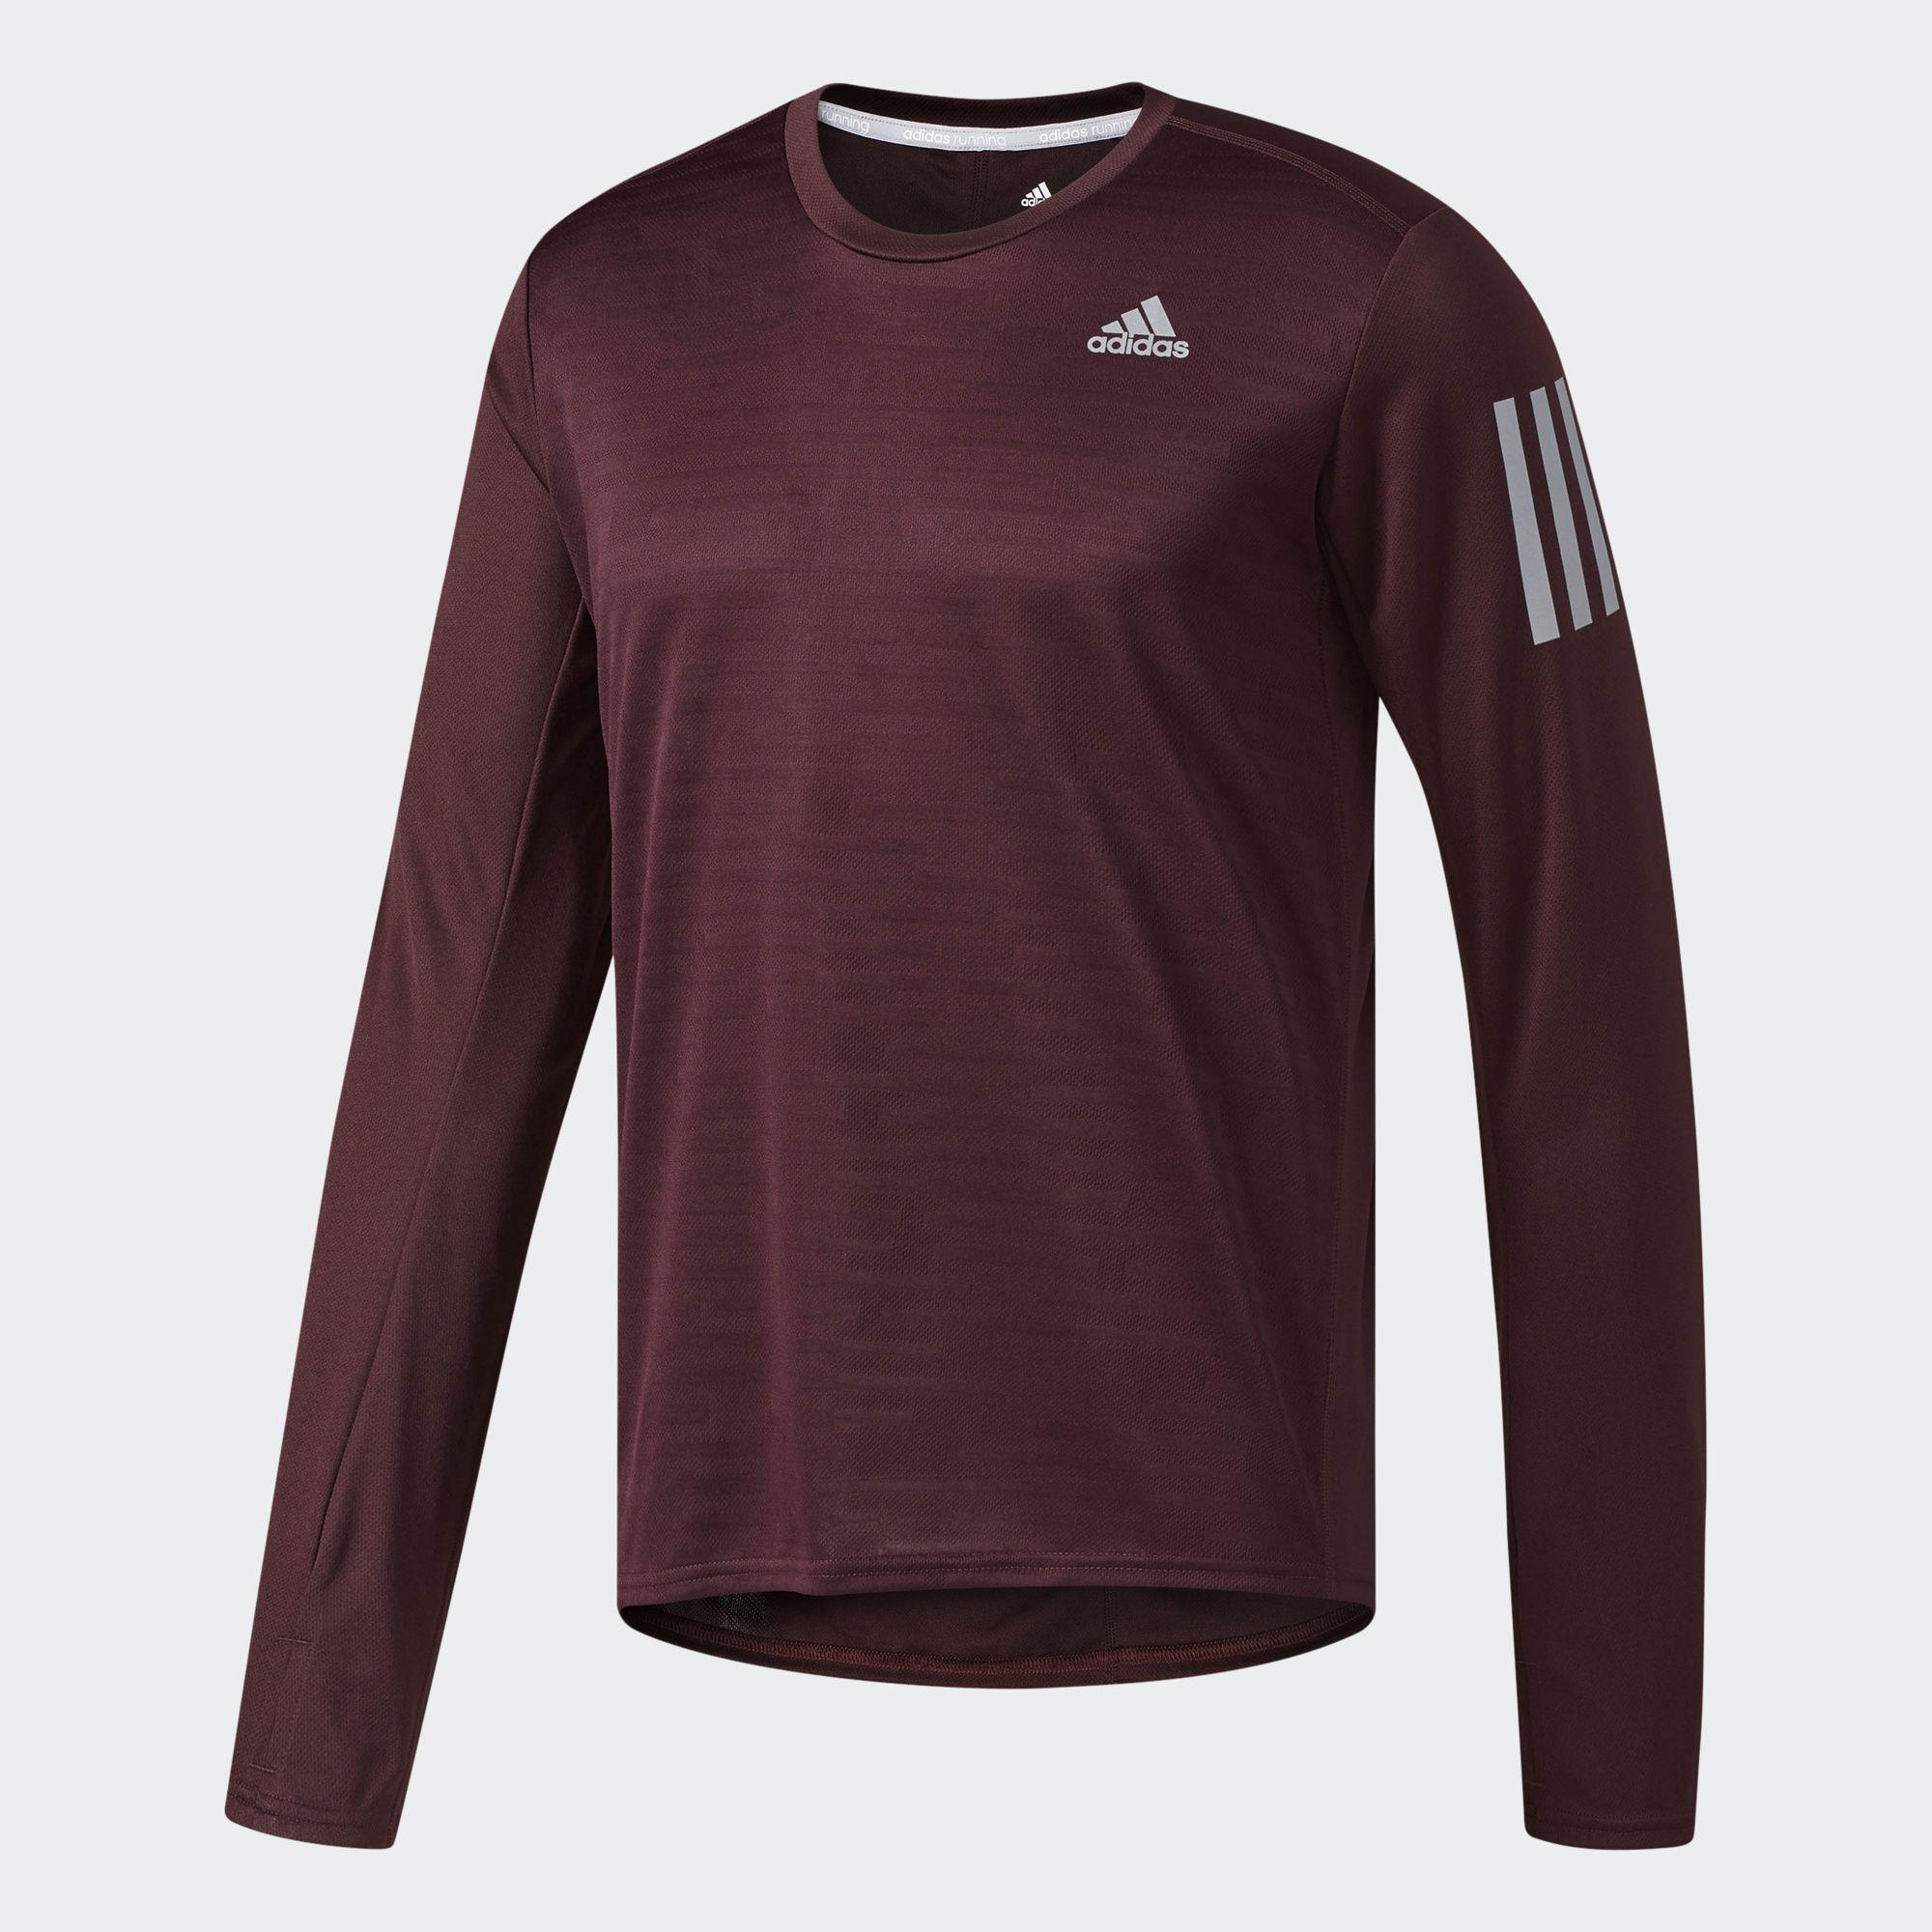teeshirt: (173, 51, 1810, 1858)
